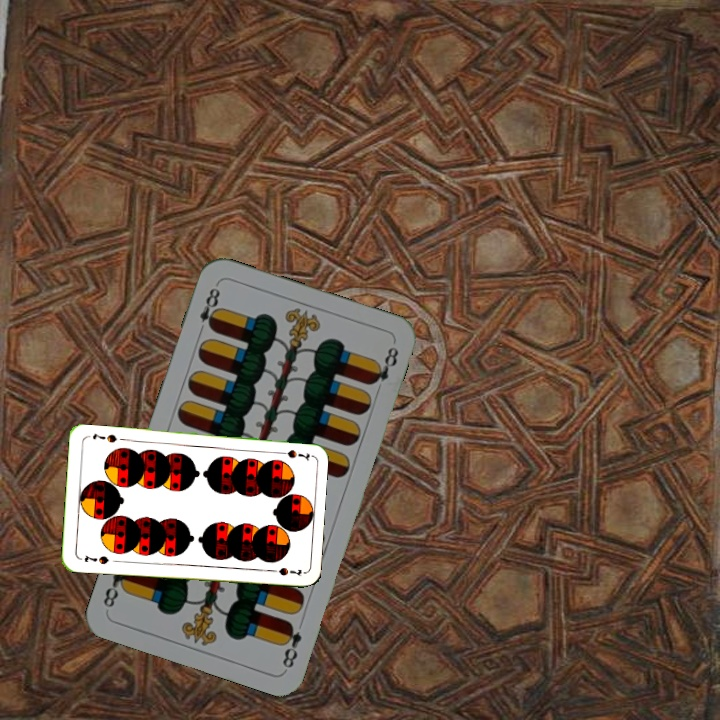E8: (194, 283, 223, 338), (277, 618, 304, 671)
S7: (272, 446, 312, 462), (80, 551, 111, 567)
